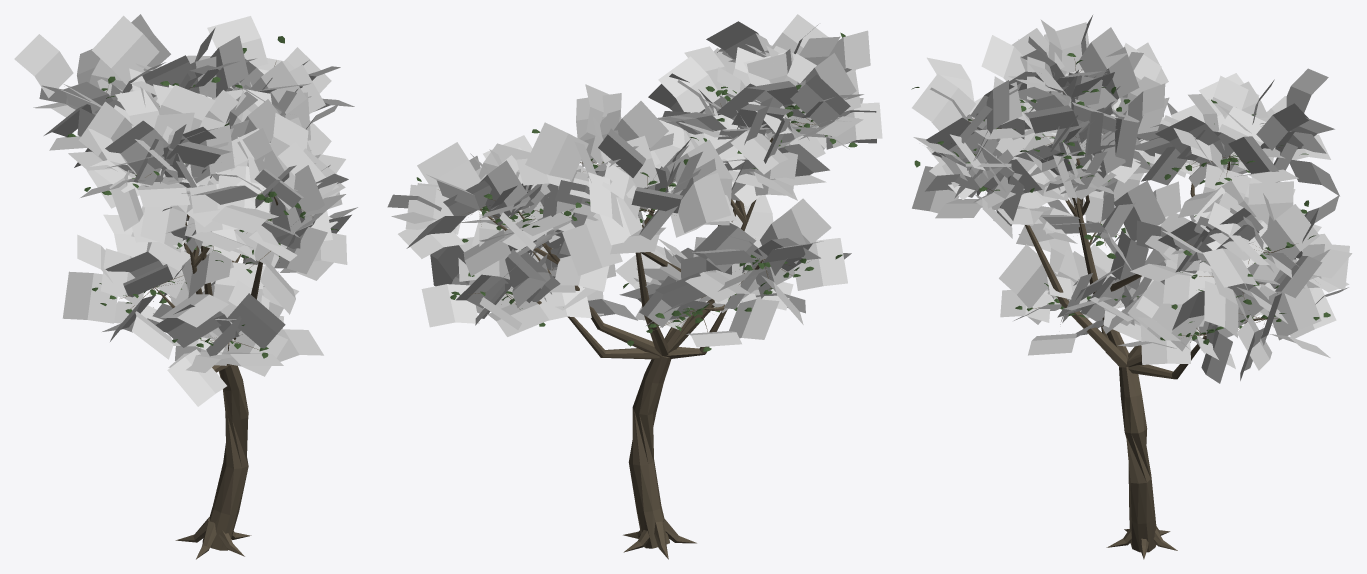
The model's file is CheneVert_Ancien_LOD1.fbx.
3 renders of one model, left to right at view 1: azimuth 30°, elevation 25°; view 2: azimuth 150°, elevation 25°; view 3: azimuth 270°, elevation 25°, orthographic. The views are drawn at different scales.
Parts seen in each view (by area): view 1: CheneVert_Ancien_LOD1; view 2: CheneVert_Ancien_LOD1; view 3: CheneVert_Ancien_LOD1.
Boxes of the visible parts, x1,y1,x2,y2 form: CheneVert_Ancien_LOD1: (14,14,357,559); CheneVert_Ancien_LOD1: (387,14,882,559); CheneVert_Ancien_LOD1: (911,15,1352,559).
Size of the model in its own units: 692 by 869 by 739.
